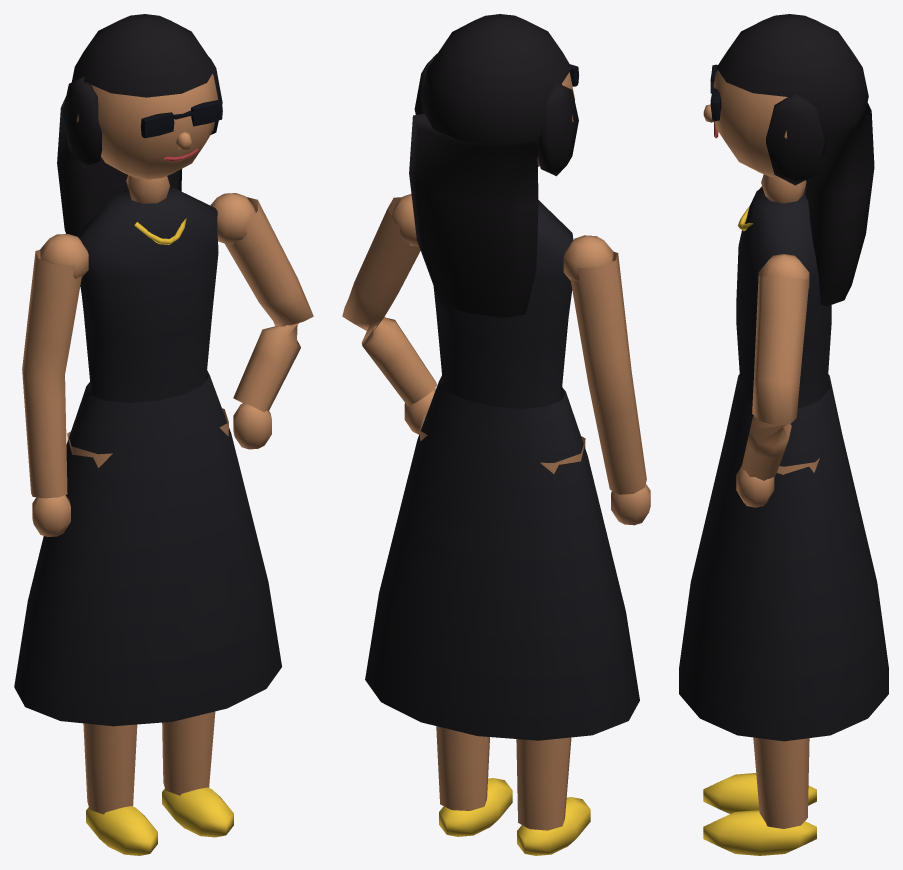
The model's file is VIP_Celebrity.obj.
3 views of the same model, side by side, from view 1: azimuth 30°, elevation 25°; view 2: azimuth 150°, elevation 25°; view 3: azimuth 270°, elevation 25° (orthographic). The views are drawn at different scales.
Parts seen in each view (by area): view 1: Torso, Head, ArmR, ArmL, LegR, LegL; view 2: Torso, Head, ArmR, ArmL, LegR, LegL; view 3: Torso, Head, ArmL, LegL, LegR.
Boxes of the visible parts, x1,y1,x2,y2 form: Torso: (14, 175, 281, 726); Head: (57, 14, 222, 237); ArmR: (22, 234, 88, 536); ArmL: (210, 193, 313, 449); LegR: (67, 431, 157, 855); LegL: (162, 408, 233, 837); Torso: (365, 200, 639, 740); Head: (409, 14, 579, 317); ArmR: (563, 235, 650, 525); ArmL: (342, 194, 436, 434); LegR: (516, 436, 590, 855); LegL: (419, 414, 512, 836); Torso: (679, 174, 888, 741); Head: (703, 14, 874, 306); ArmL: (736, 254, 809, 507); LegL: (703, 458, 819, 855); LegR: (703, 773, 816, 813).
Bounding box in the file's own units: 0.6928 × 1.86 × 0.4338.
1 material, 1 textured.
